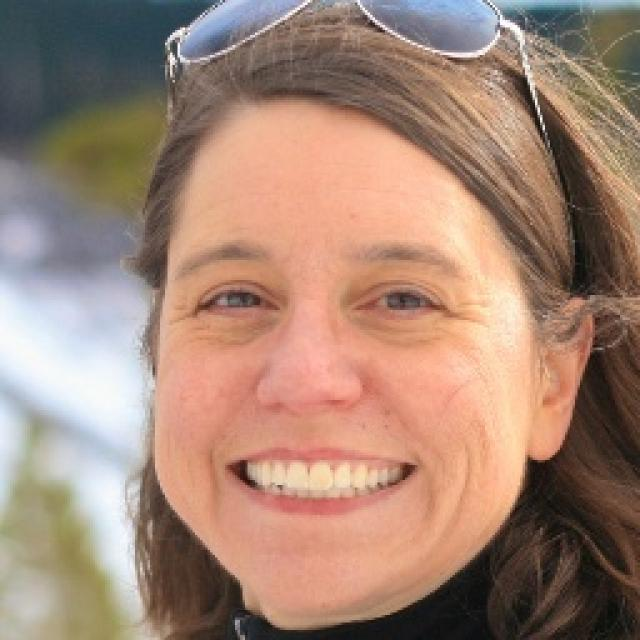earlobe: (528, 418, 568, 464)
eye: (359, 283, 441, 322), (198, 285, 274, 318)
nose: (253, 396, 365, 438)
wholeear: (528, 296, 596, 464)
